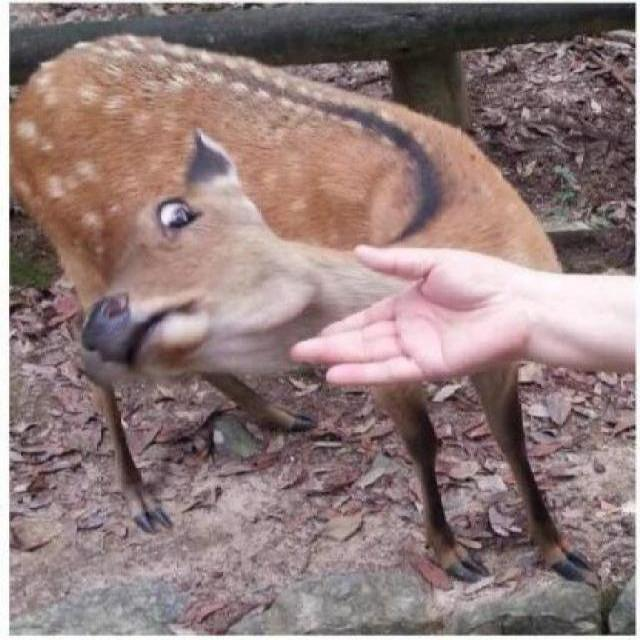deer: (10, 28, 604, 584)
